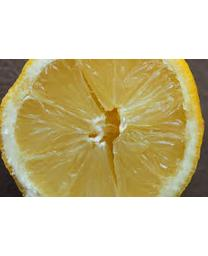lemon: (0, 59, 203, 197)
